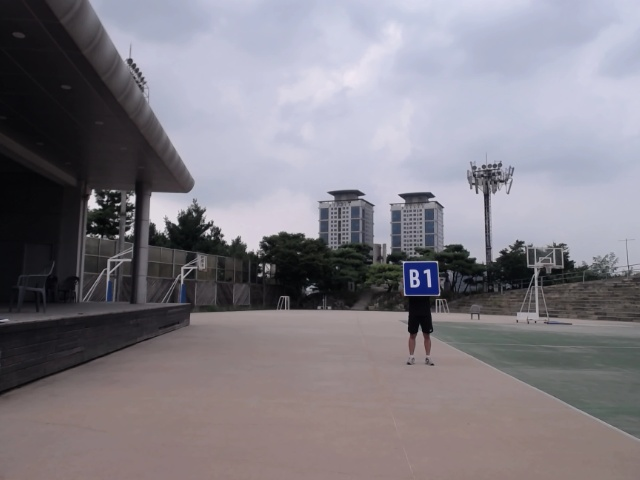delivery_b1: (403, 261, 440, 296)
